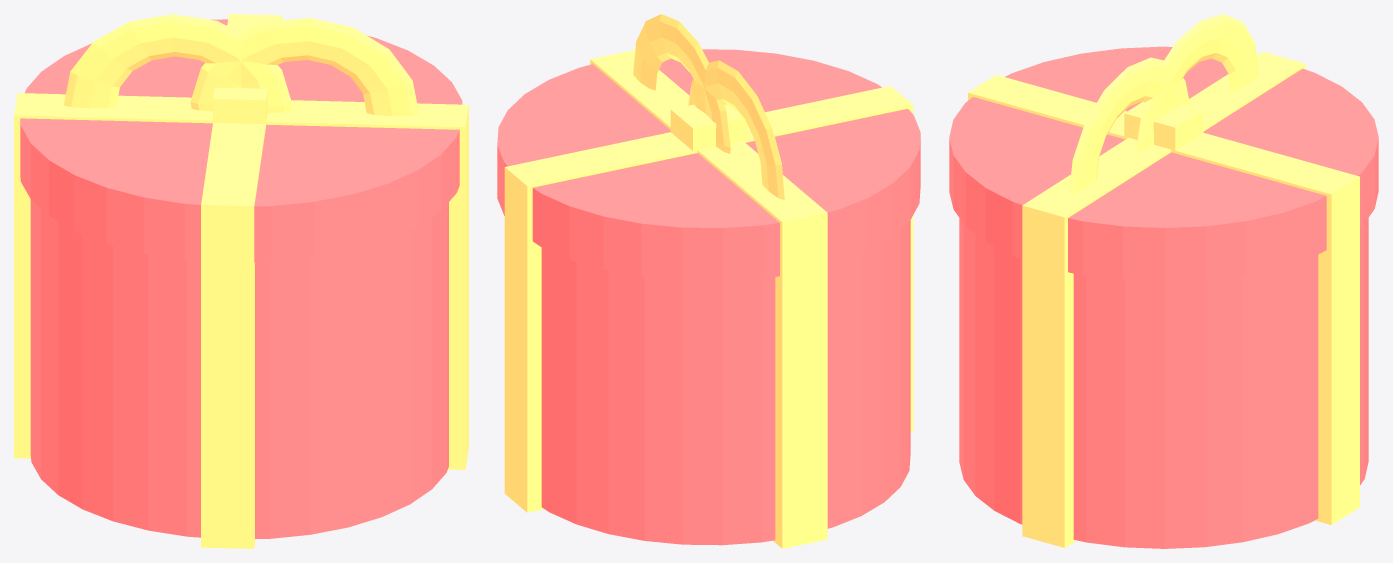
File: Tmpl_Round_Root_197.glb
3 renders of one model, left to right at view 1: azimuth 30°, elevation 25°; view 2: azimuth 150°, elevation 25°; view 3: azimuth 270°, elevation 25°, orthographic. The views are drawn at different scales.
Visible parts, largest first — view 1: Tmpl_Round_Base.195, Tmpl_Round_Lid.195, Tmpl_Round_Ribbon_Y.195, Tmpl_Round_Ribbon_X.195, Tmpl_Round_BowR.195, Tmpl_Round_BowL.195, Tmpl_Round_BowKnot.195; view 2: Tmpl_Round_Base.195, Tmpl_Round_Lid.195, Tmpl_Round_Ribbon_X.195, Tmpl_Round_Ribbon_Y.195, Tmpl_Round_BowL.195, Tmpl_Round_BowR.195, Tmpl_Round_BowKnot.195; view 3: Tmpl_Round_Base.195, Tmpl_Round_Lid.195, Tmpl_Round_Ribbon_X.195, Tmpl_Round_Ribbon_Y.195, Tmpl_Round_BowR.195, Tmpl_Round_BowL.195, Tmpl_Round_BowKnot.195.
Part boxes in pixels (box(x1,y1,x2,y2)): Tmpl_Round_Base.195: box(30, 200, 448, 538); Tmpl_Round_Lid.195: box(20, 19, 462, 262); Tmpl_Round_Ribbon_Y.195: box(201, 14, 281, 548); Tmpl_Round_Ribbon_X.195: box(14, 93, 468, 469); Tmpl_Round_BowR.195: box(63, 14, 292, 112); Tmpl_Round_BowL.195: box(190, 18, 419, 116); Tmpl_Round_BowKnot.195: box(213, 87, 267, 124); Tmpl_Round_Base.195: box(541, 220, 910, 545); Tmpl_Round_Lid.195: box(497, 49, 920, 281); Tmpl_Round_Ribbon_X.195: box(590, 50, 827, 548); Tmpl_Round_Ribbon_Y.195: box(504, 86, 913, 512); Tmpl_Round_BowL.195: box(633, 14, 730, 153); Tmpl_Round_BowR.195: box(688, 60, 784, 199); Tmpl_Round_BowKnot.195: box(670, 104, 747, 153); Tmpl_Round_Base.195: box(959, 218, 1368, 548); Tmpl_Round_Lid.195: box(949, 46, 1378, 282); Tmpl_Round_Ribbon_X.195: box(1022, 52, 1305, 547); Tmpl_Round_Ribbon_Y.195: box(968, 74, 1359, 524); Tmpl_Round_BowR.195: box(1136, 14, 1258, 151); Tmpl_Round_BowL.195: box(1069, 57, 1190, 194); Tmpl_Round_BowKnot.195: box(1124, 102, 1203, 153).
Size of the model in its own units: 0.9049 by 0.9795 by 0.9049.
